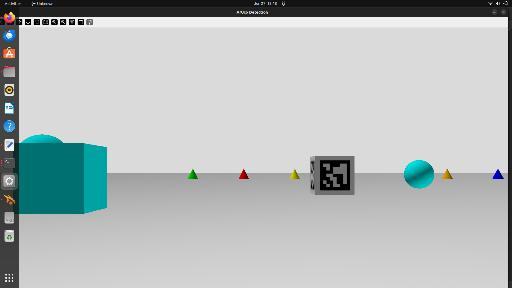blue_cone: (492, 168, 504, 180)
green_cone: (187, 168, 198, 180)
orange_cone: (442, 169, 454, 179)
red_cone: (239, 168, 249, 179)
yellow_cone: (290, 168, 299, 180)
